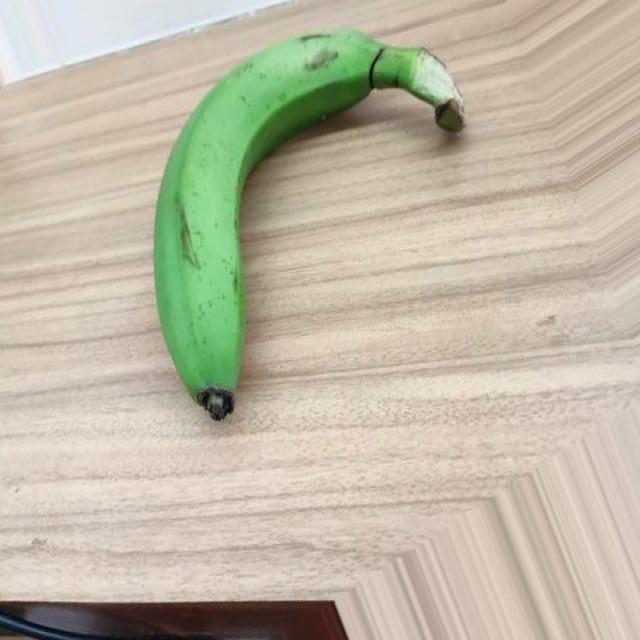Unripe: (154, 26, 469, 423)
